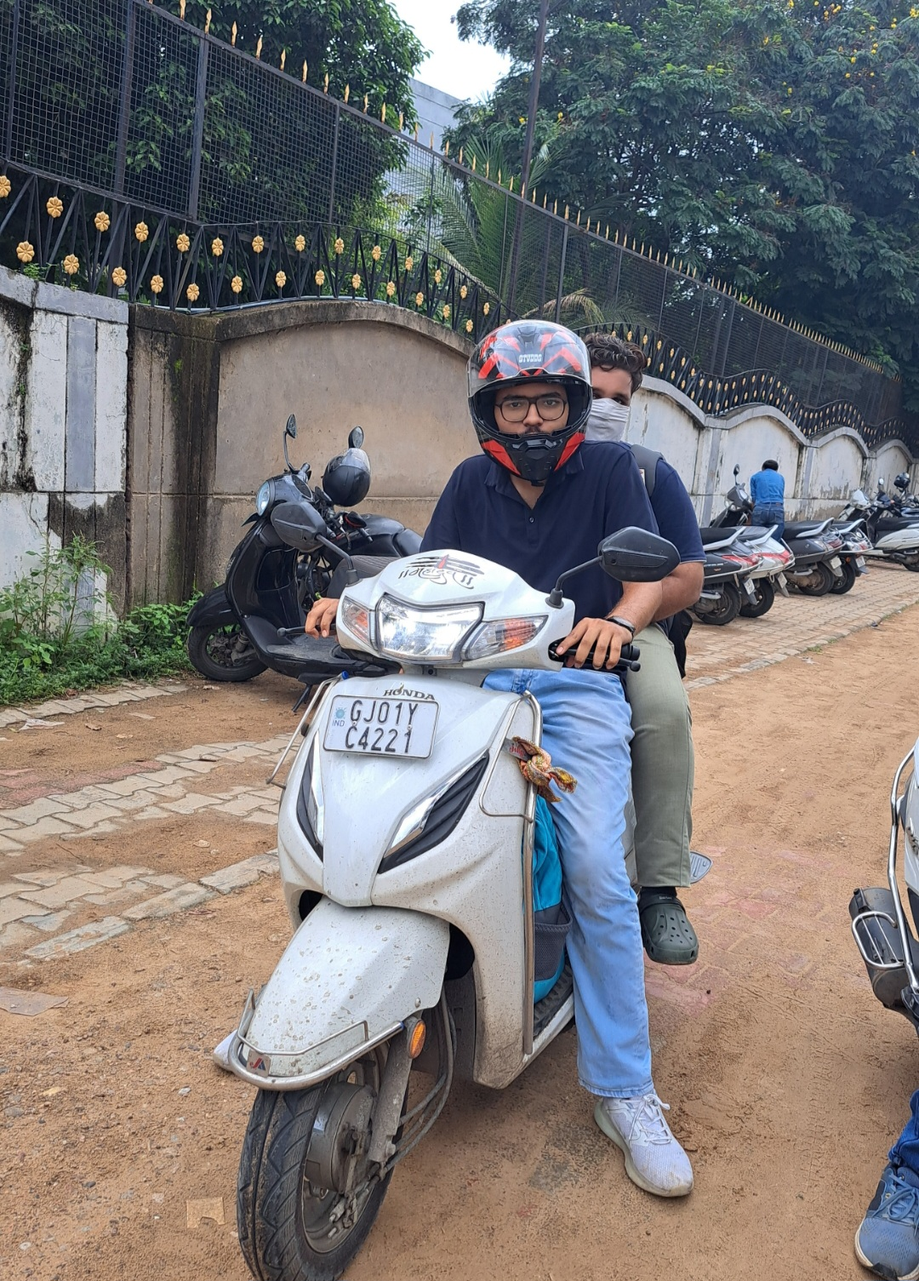BikeWithRider: (186, 307, 724, 1281)
Helmet: (454, 312, 597, 496)
NoHelmet: (569, 323, 660, 451)
